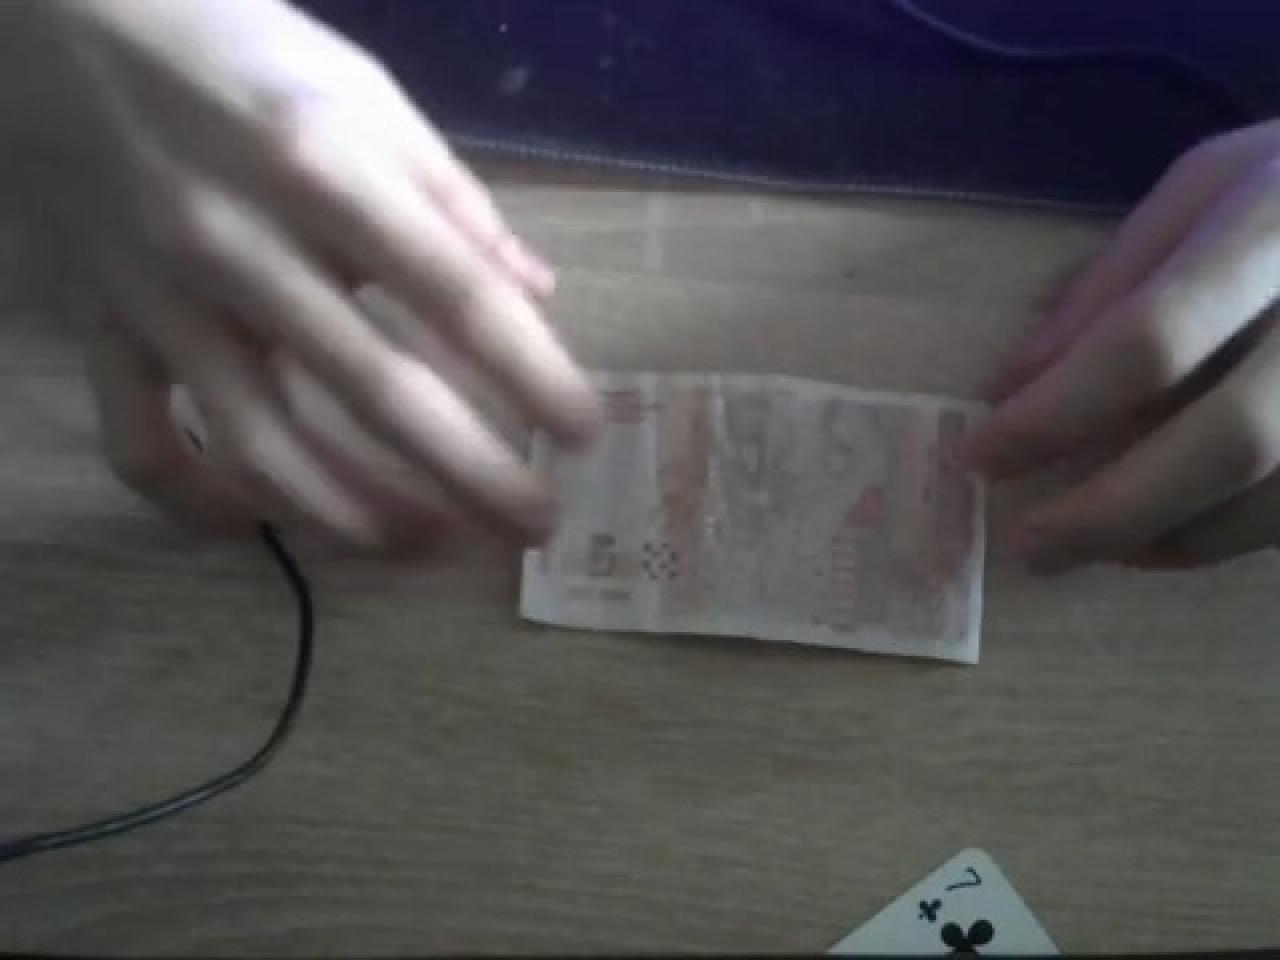5leva: (520, 368, 990, 667)
